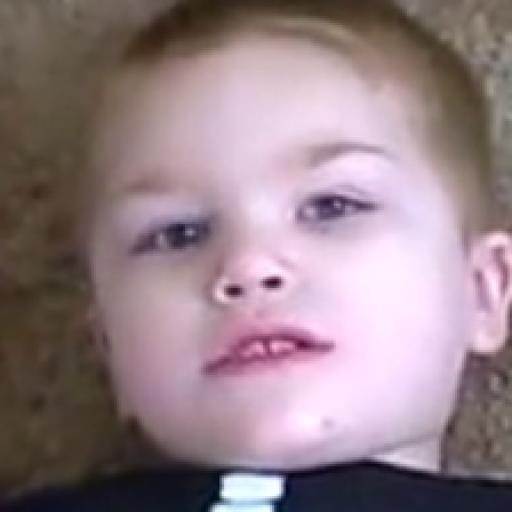Autism: (72, 26, 512, 462)
